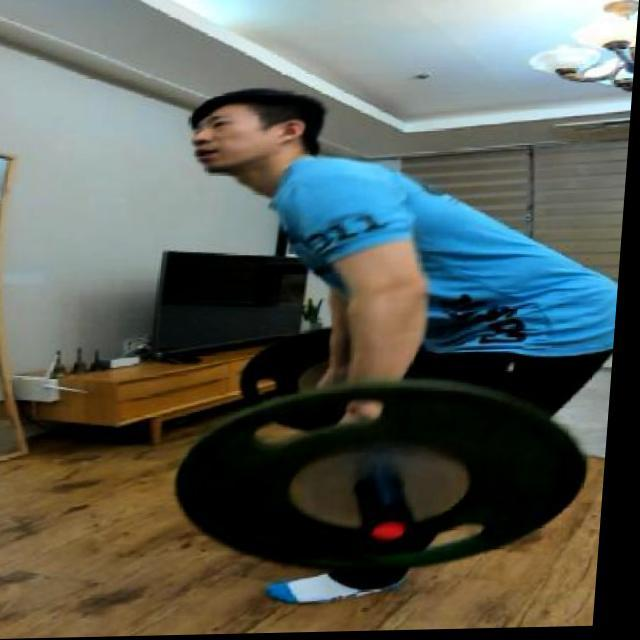barbell: (174, 373, 605, 585)
